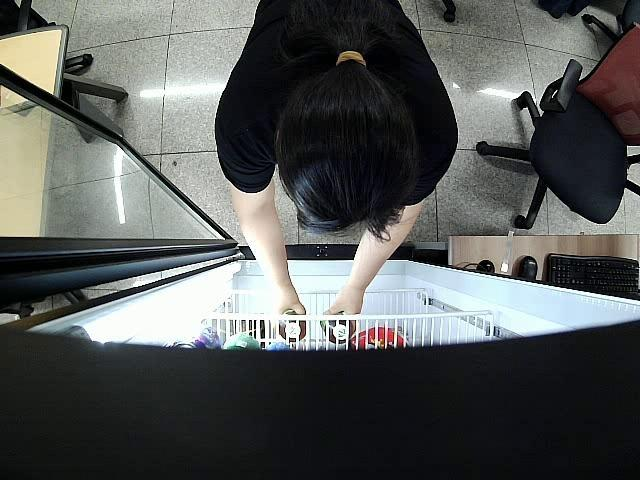19_17cha: (320, 312, 352, 344), (278, 310, 307, 342)
